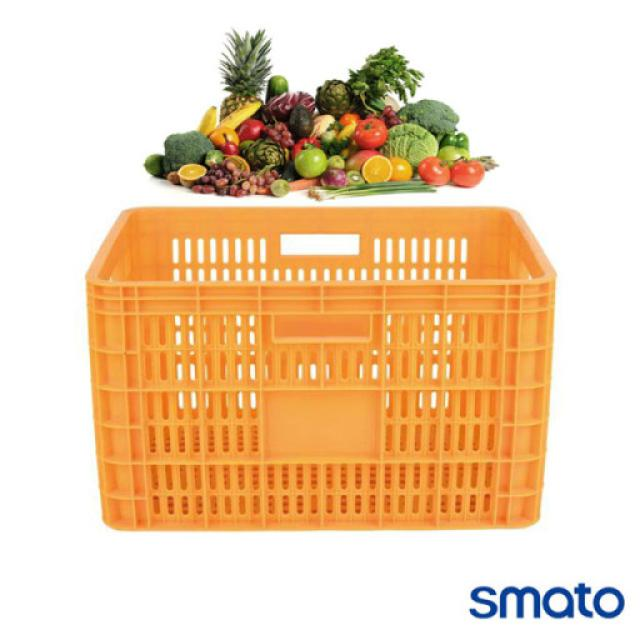basket: (86, 206, 557, 531)
